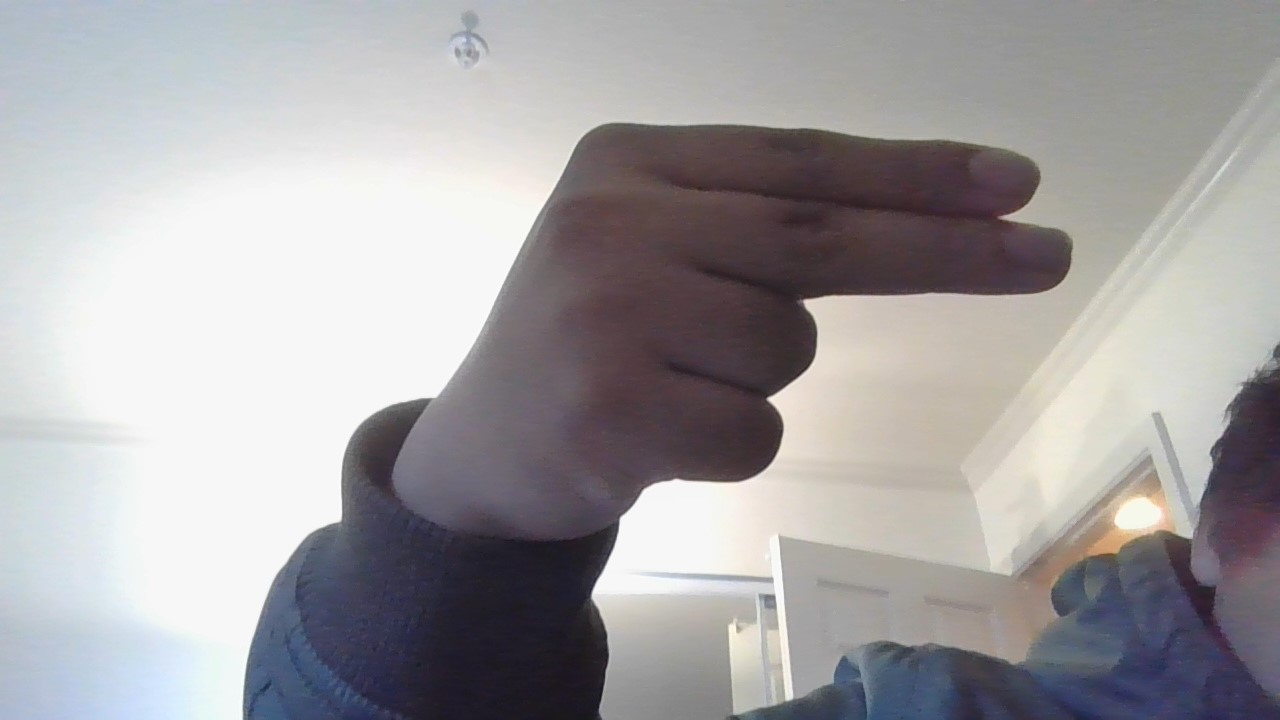h: (378, 84, 1105, 569)
